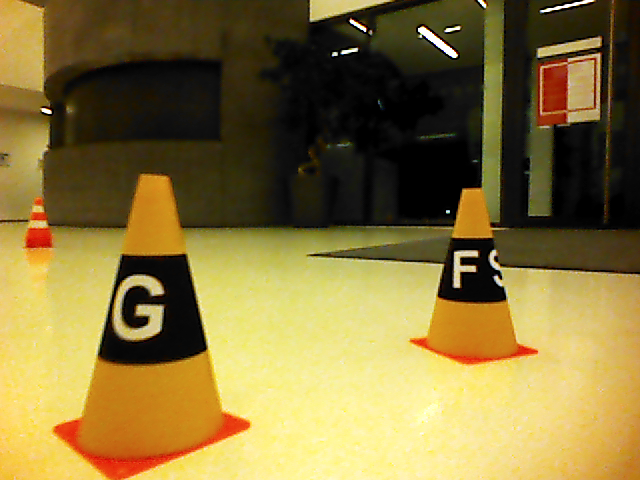yellowcone: (77, 172, 223, 461), (425, 186, 519, 359)
